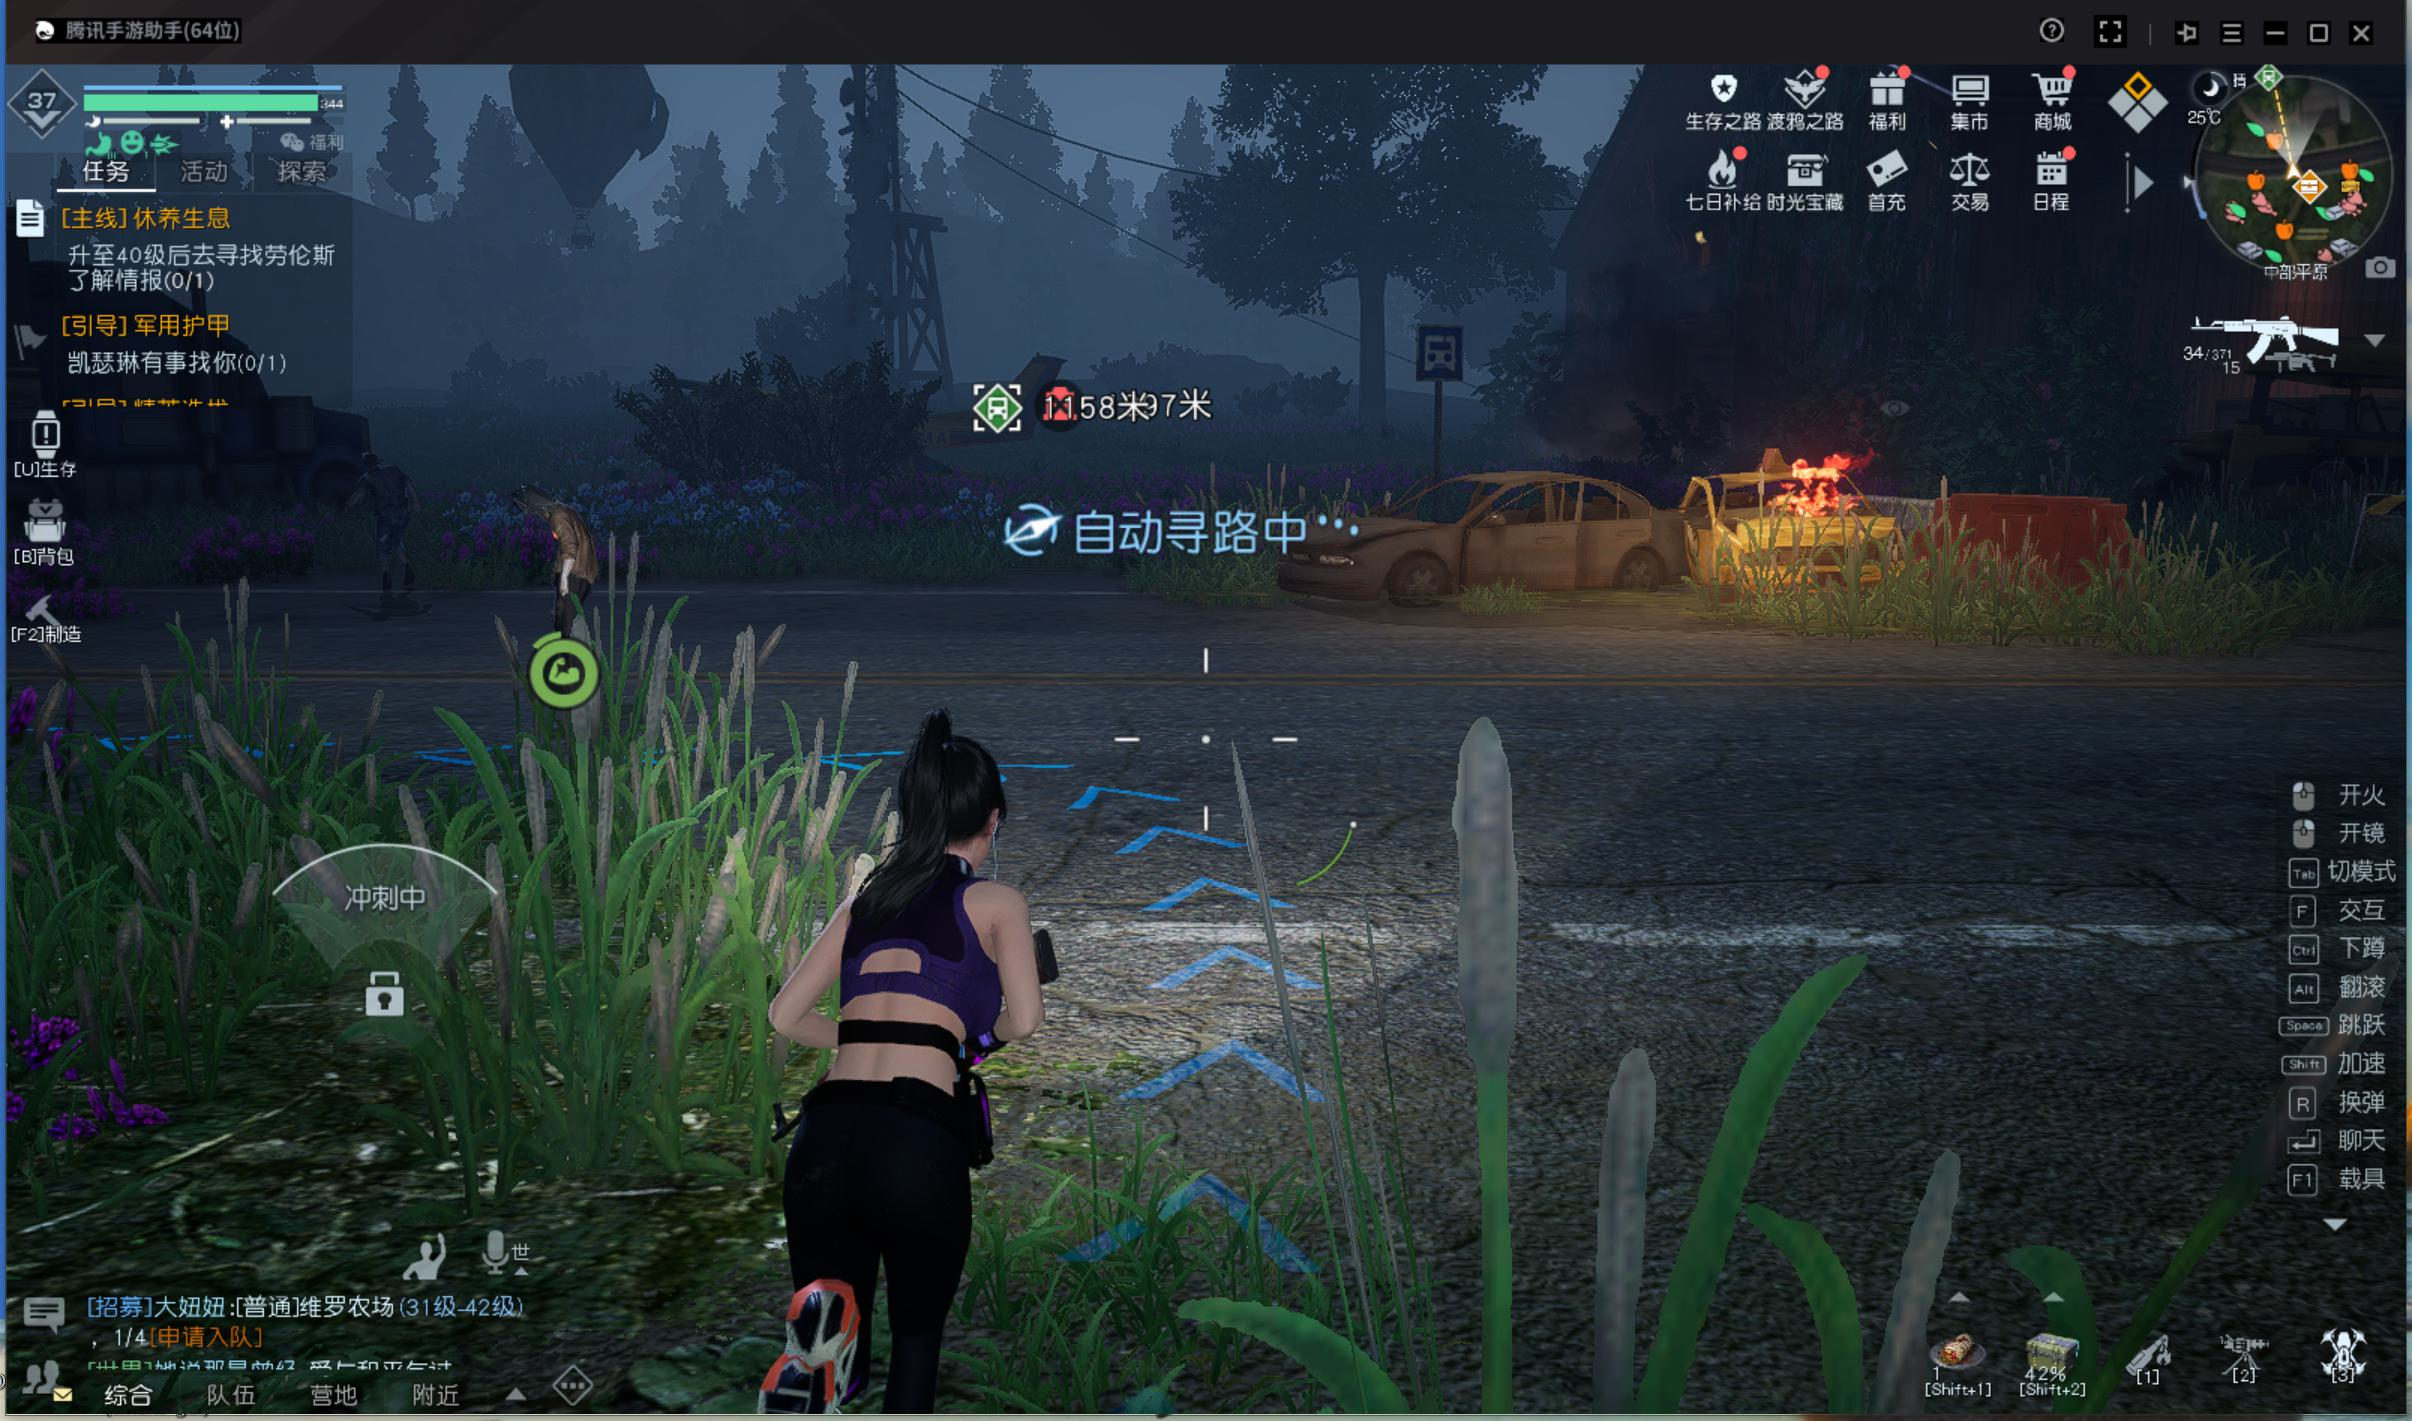tree: (1338, 296, 1680, 442), (1348, 293, 1409, 467)
